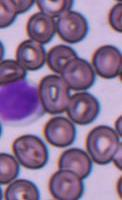L: (0, 79, 42, 125)
